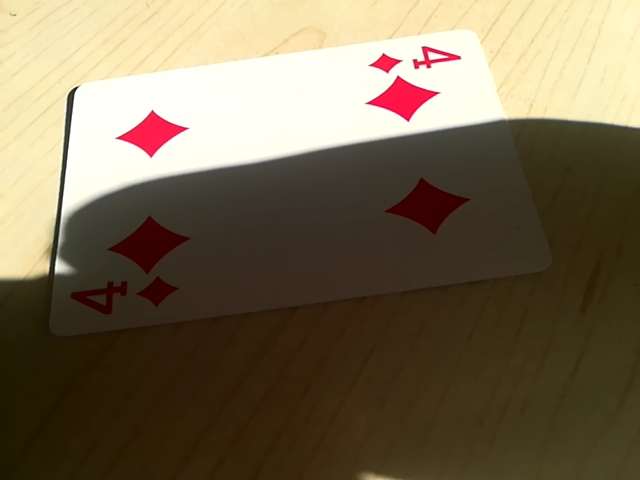fk 4: (56, 262, 185, 329), (365, 41, 466, 77)
